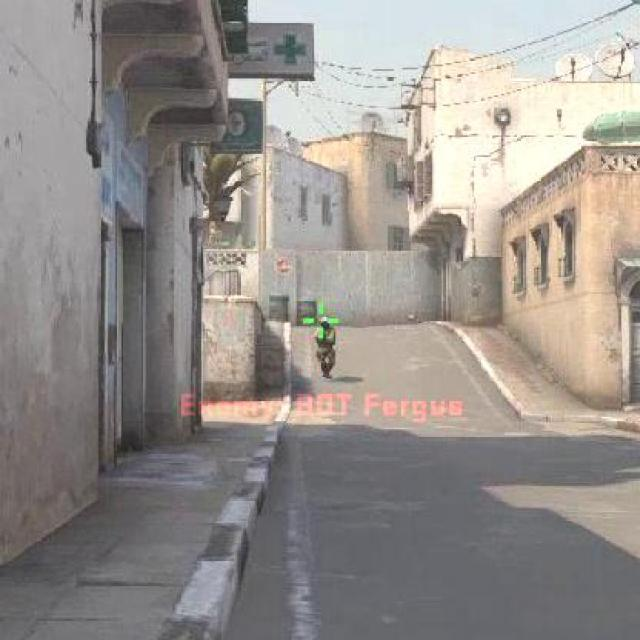CT: (312, 308, 345, 372)
CT_HEAD: (317, 312, 332, 328)
